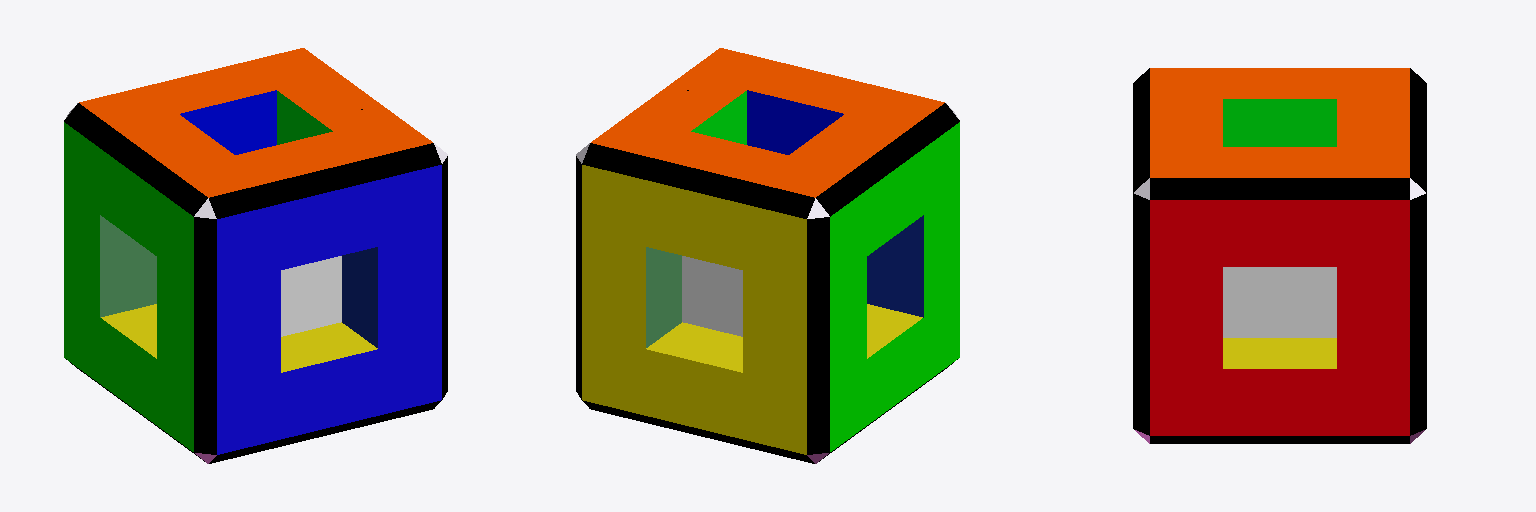
3 views of the same model, side by side, from view 1: azimuth 30°, elevation 25°; view 2: azimuth 150°, elevation 25°; view 3: azimuth 270°, elevation 25° (orthographic).
Parts seen in each view (by area): view 1: Cube; view 2: Cube; view 3: Cube.
Boxes of the visible parts, <box> form: Cube: <box>64,48,447,463</box>; Cube: <box>576,48,959,463</box>; Cube: <box>1133,68,1426,443</box>.
Size of the model in its own units: 1 by 1 by 1.
Materials: 1 (1 with a texture image).